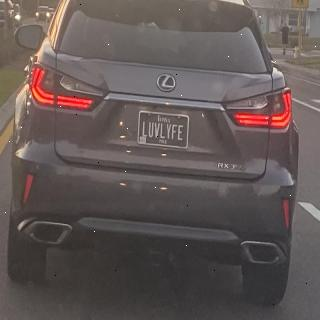license: (138, 110, 191, 152)
